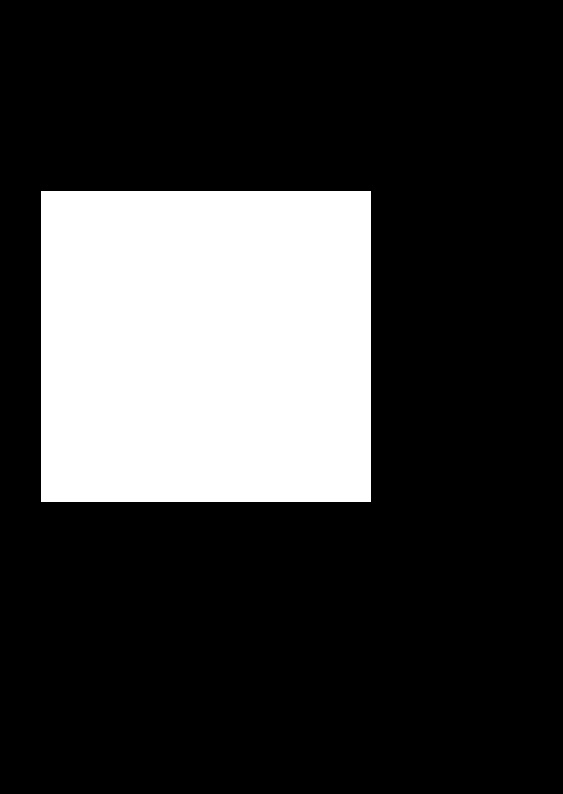table: (41, 191, 370, 501)
